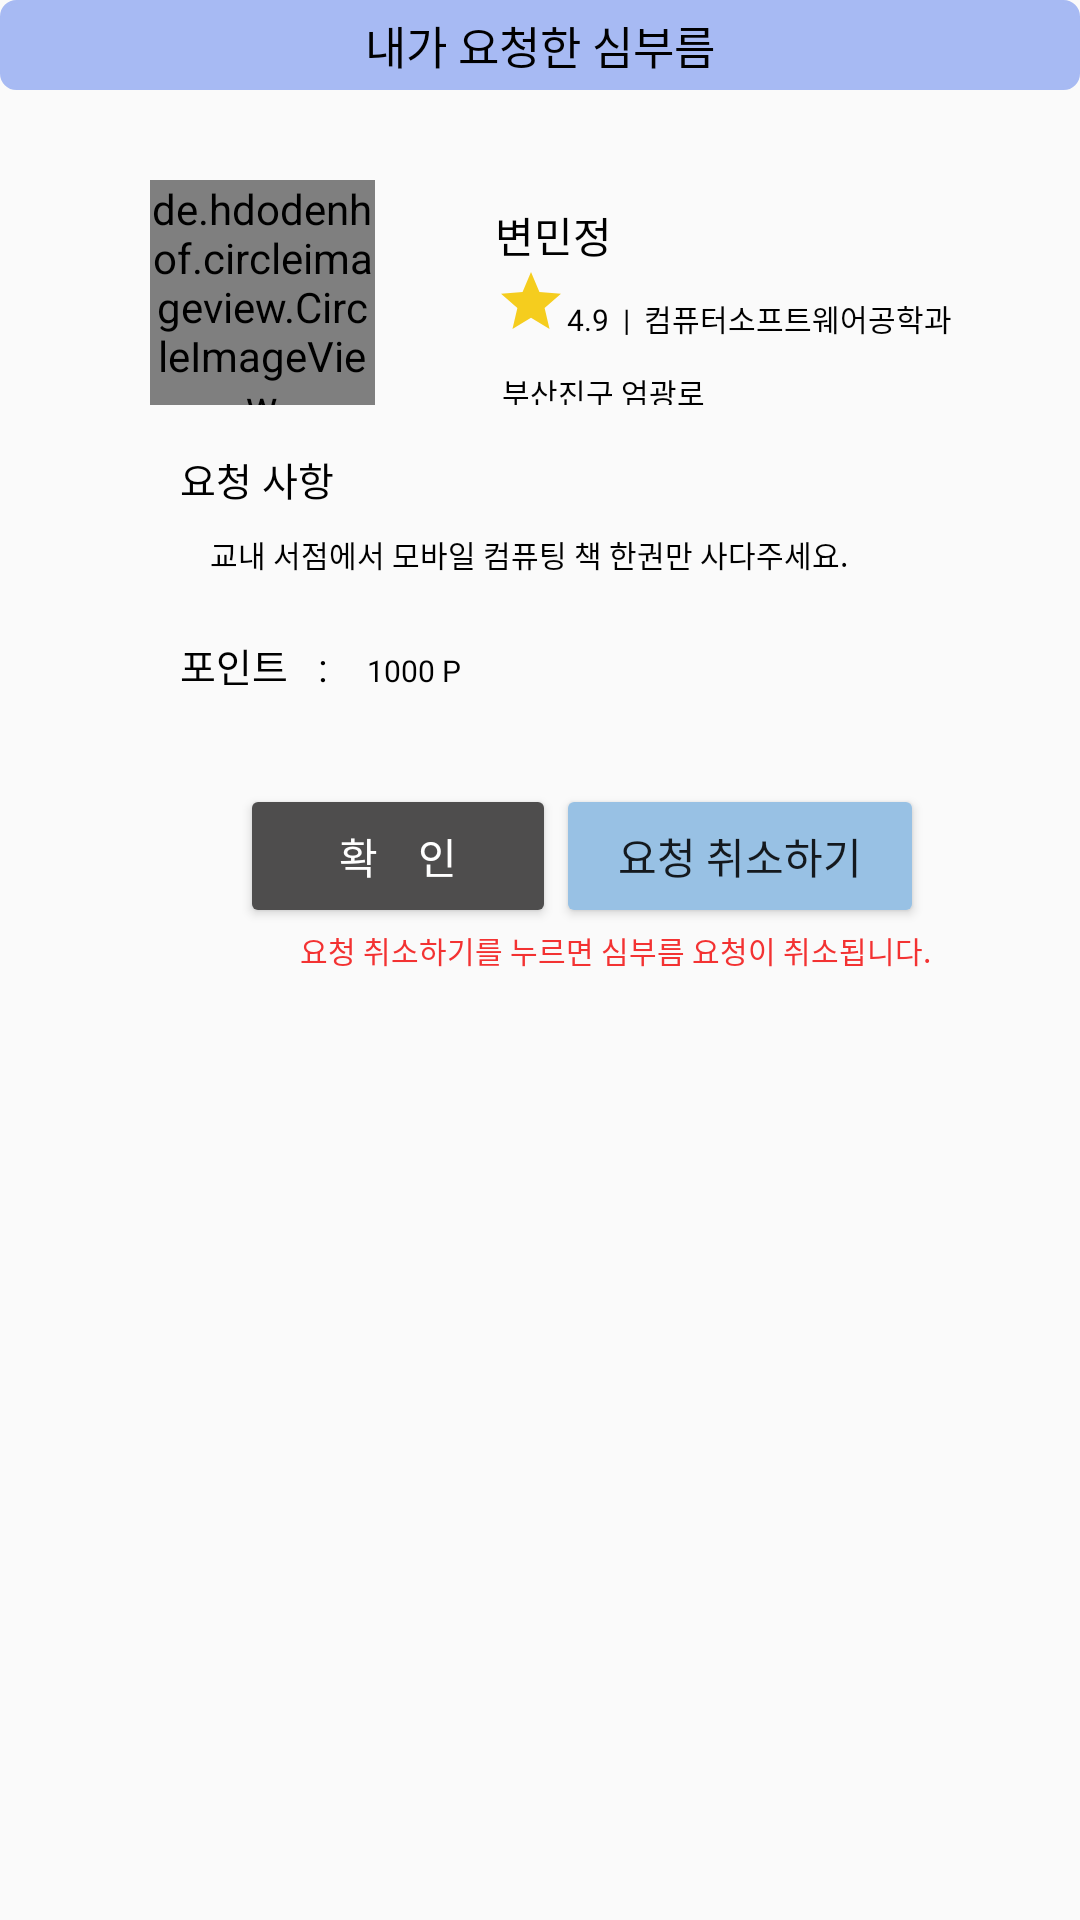

Locate icon controls on the screen. Image size 1080px x 1920px, boxes as box(x1, y1, x2, y2).
star: box(501, 272, 561, 329)
